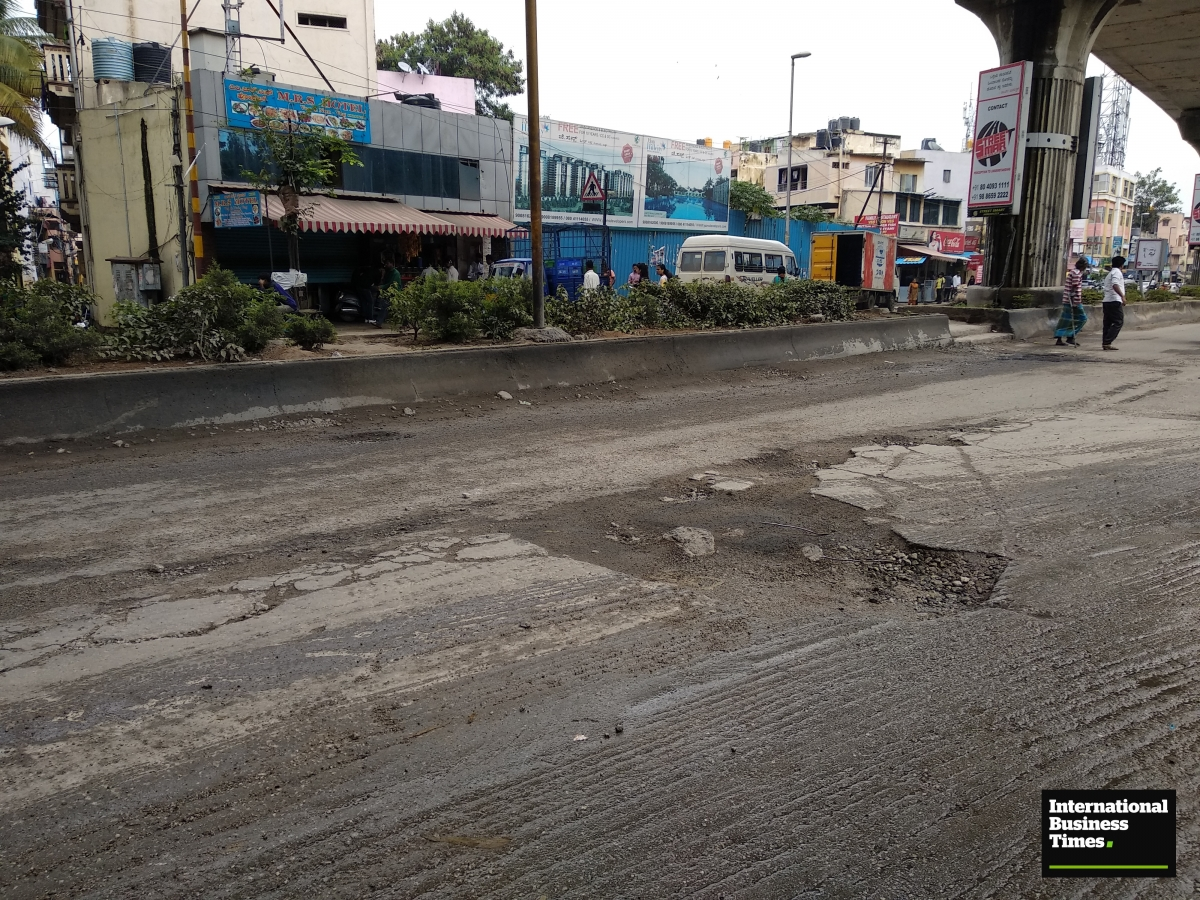pothole: (545, 465, 986, 633), (85, 548, 239, 667)
